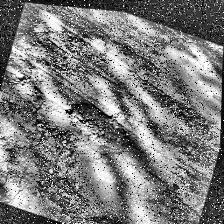pothole: (58, 90, 136, 152), (0, 40, 56, 105)
